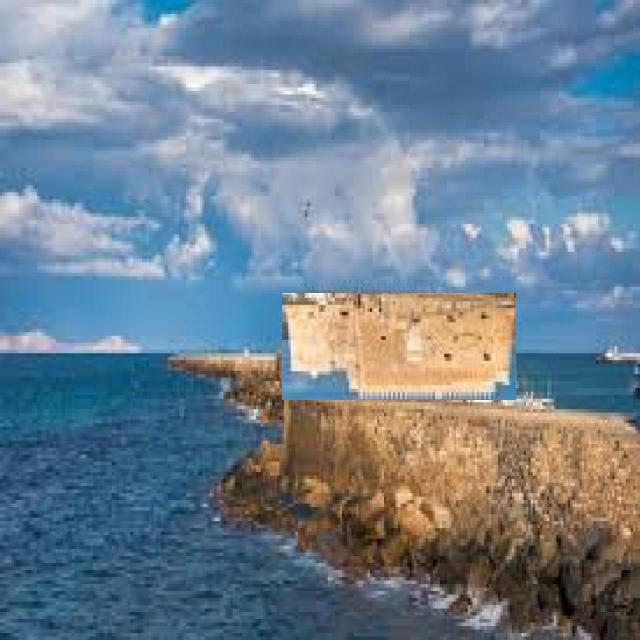Kules: (283, 294, 517, 401)
